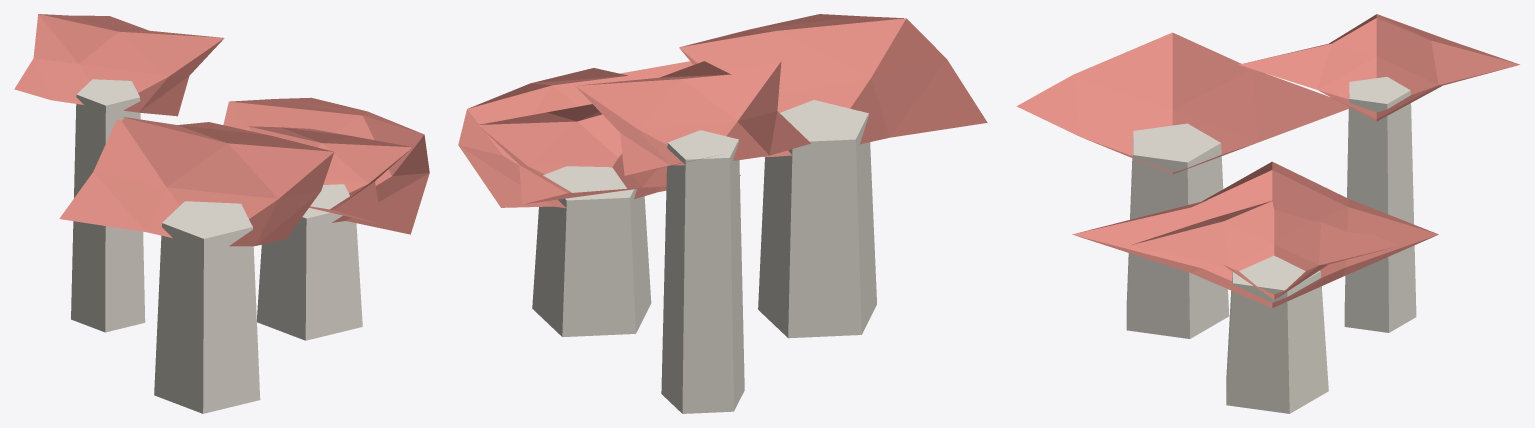
File: mushroom_v26.glb
3 renders of one model, left to right at view 1: azimuth 30°, elevation 25°; view 2: azimuth 150°, elevation 25°; view 3: azimuth 270°, elevation 25°, orthographic. The views are drawn at different scales.
Visible parts, largest first — view 1: lod0; view 2: lod0; view 3: lod0.
Part boxes in pixels (x1,y1,x2,y2): lod0: (14, 14, 429, 413); lod0: (458, 14, 987, 413); lod0: (1016, 14, 1519, 413).
Size of what is drawn, in the model's own units: 0.6573 by 0.4546 by 0.6855.
